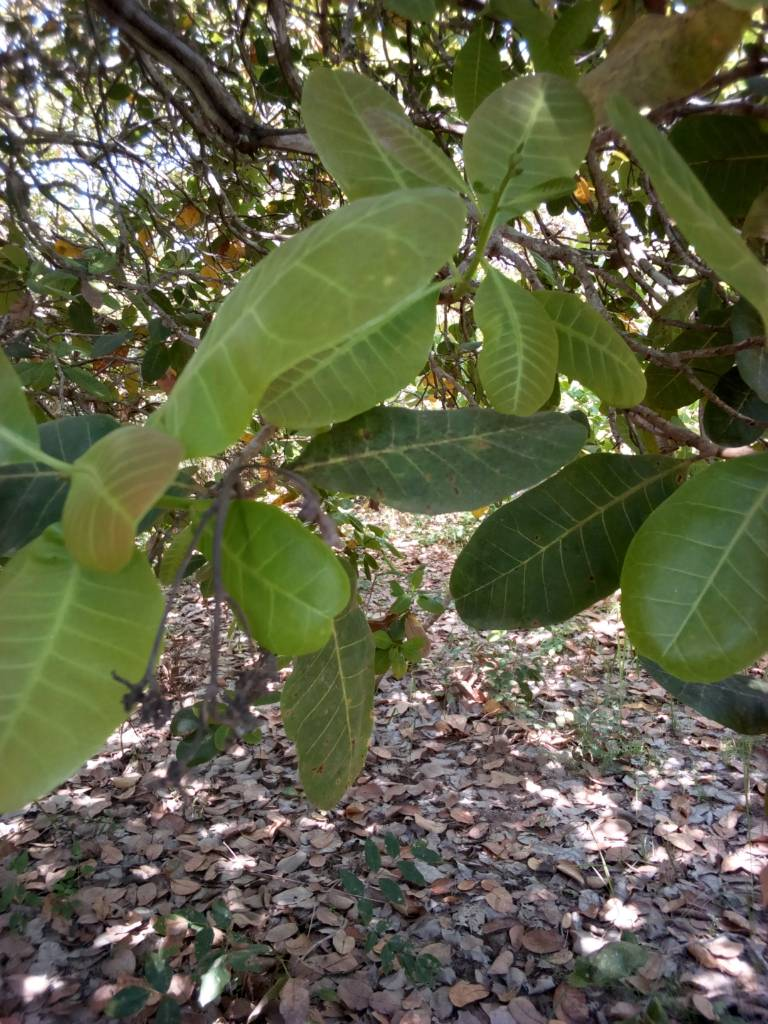Dessèchement des bourgeons: (655, 278, 768, 466), (119, 669, 274, 735)
